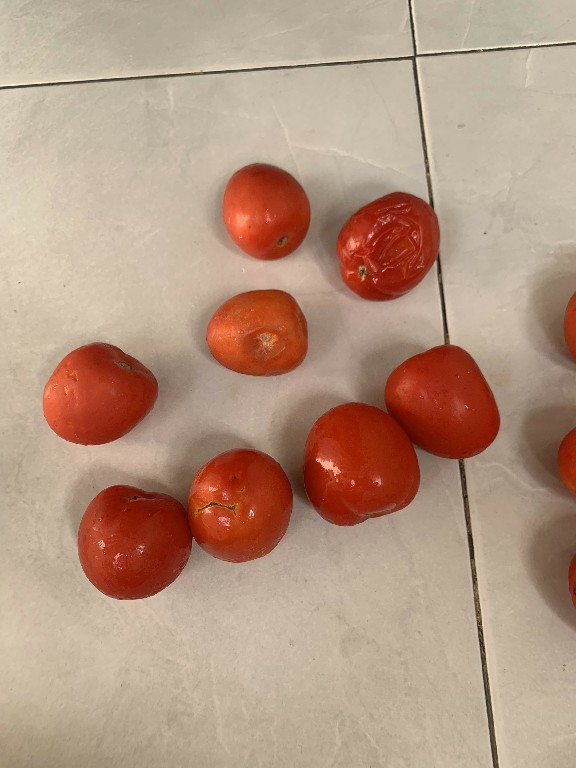NG: (330, 186, 441, 303), (187, 445, 294, 564), (201, 283, 311, 380)
OK: (300, 397, 420, 537), (380, 340, 506, 469), (74, 476, 200, 600), (40, 339, 157, 450), (216, 156, 314, 264)
